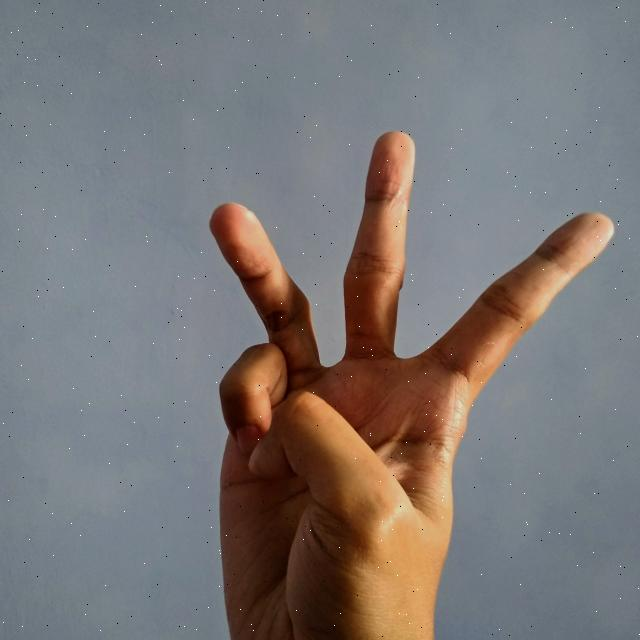W: (202, 125, 620, 640)
